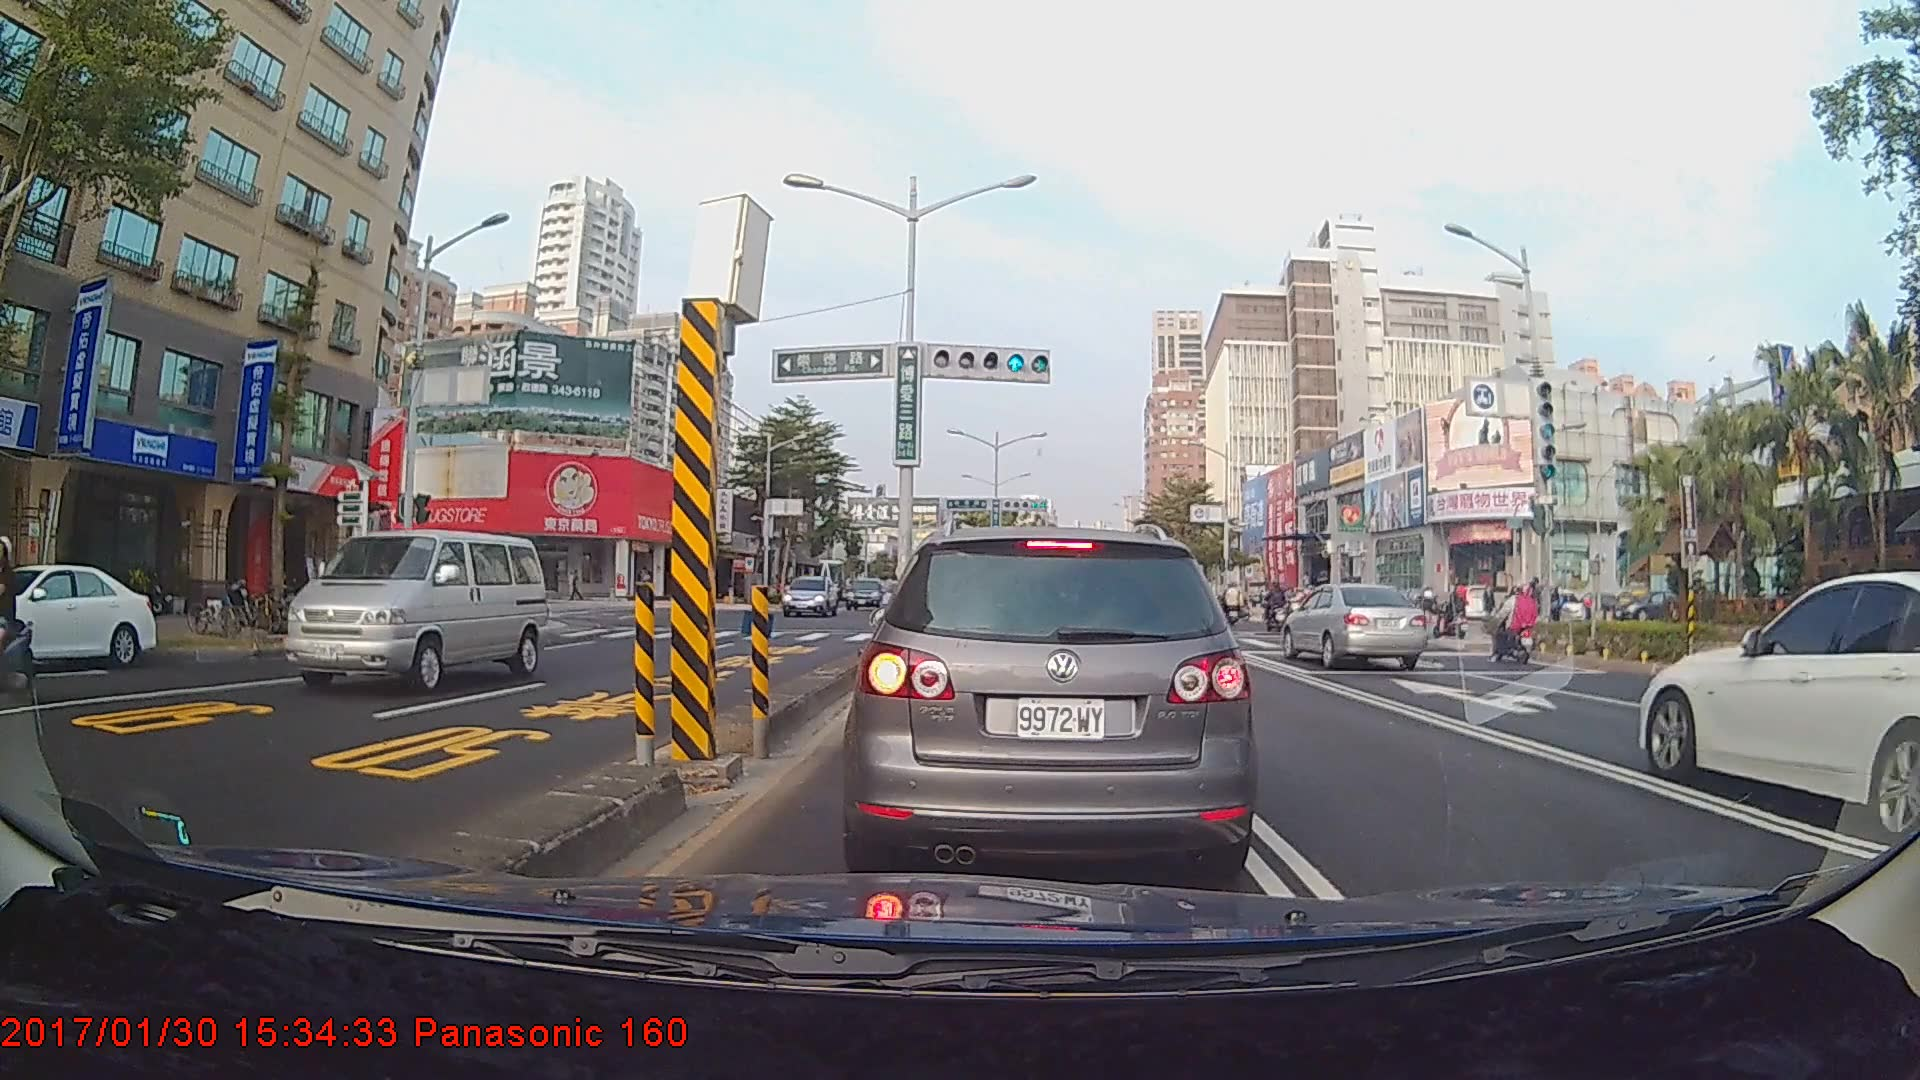rider: (1, 539, 44, 701), (1485, 582, 1548, 668)
vehicle: (851, 522, 1250, 885), (1639, 572, 1920, 829), (279, 527, 552, 694), (0, 561, 157, 671), (1278, 580, 1427, 668), (779, 573, 838, 616)
